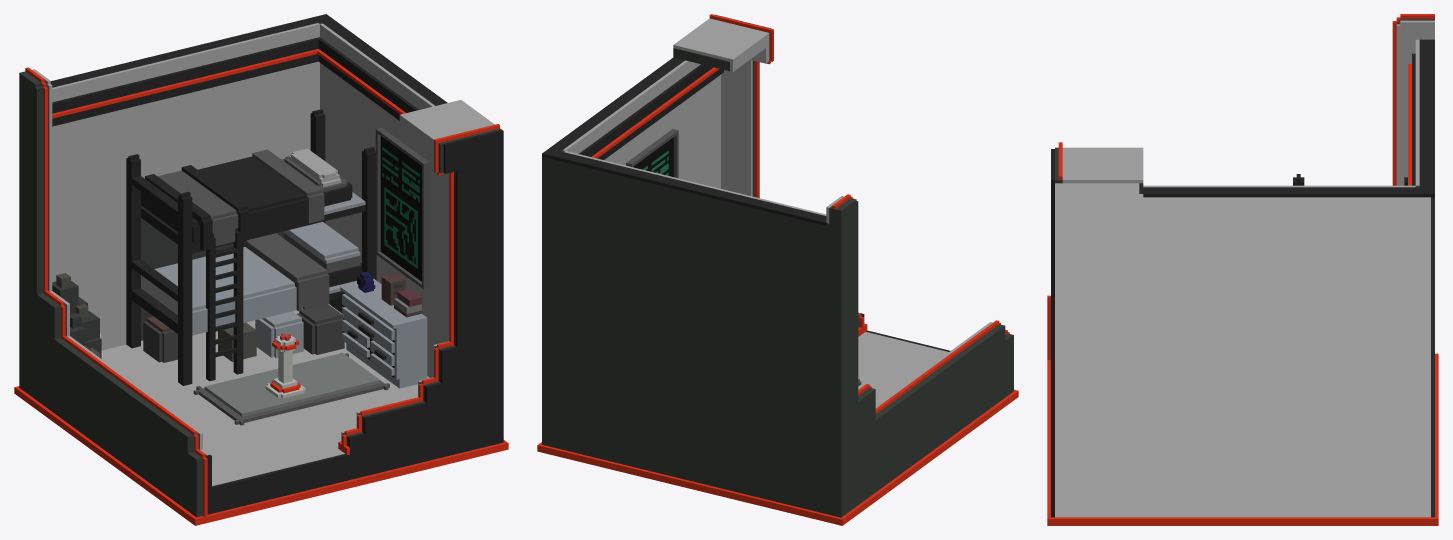
The model's file is Room_2.obj.
The picture shows the model from 3 angles, left to right: view 1: azimuth 30°, elevation 25°; view 2: azimuth 150°, elevation 25°; view 3: azimuth 270°, elevation 25°; orthographic projection. The views are drawn at different scales.
Size of the model in its own units: 102 by 101 by 102.
